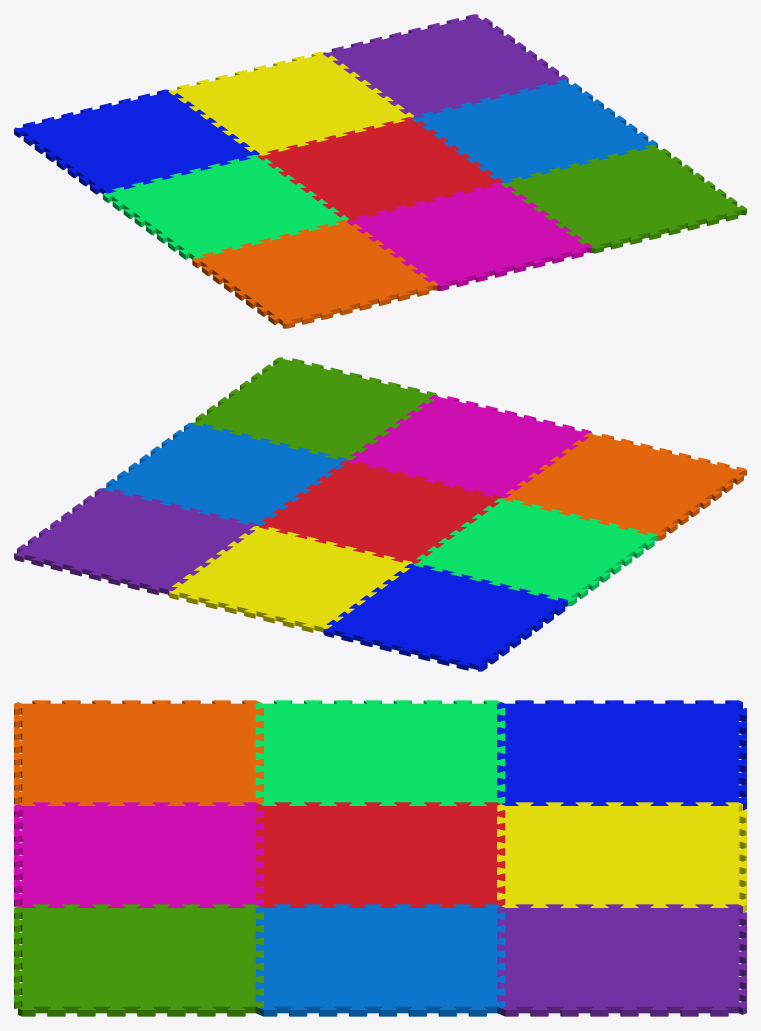
The model's file is Tatame.fbx.
The picture shows the model from 3 angles, top to bottom: view 1: azimuth 30°, elevation 25°; view 2: azimuth 150°, elevation 25°; view 3: azimuth 270°, elevation 25°; orthographic projection. The views are drawn at different scales.
Visible parts, largest first — view 1: Cube.002; view 2: Cube.002; view 3: Cube.002.
Part boxes in pixels (bbox=[...]): Cube.002: bbox=[14, 14, 746, 328]; Cube.002: bbox=[14, 357, 746, 671]; Cube.002: bbox=[14, 700, 746, 1016].
Bounding box in the file's own units: 10 × 10 × 0.1.
